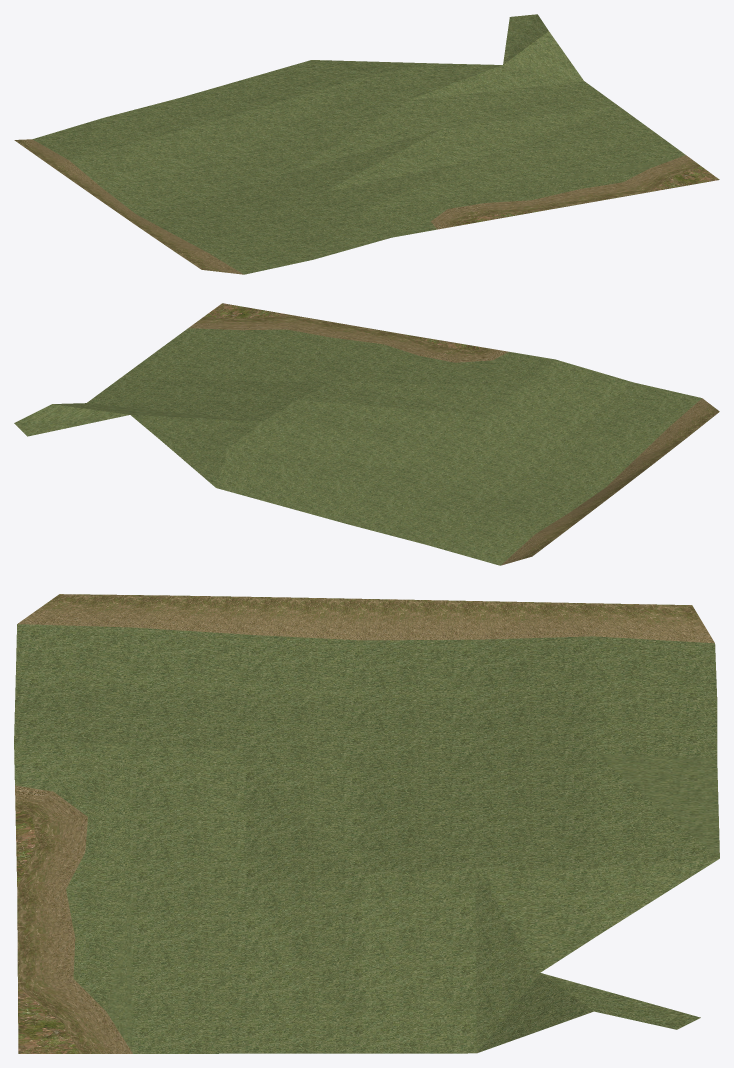
Rendered from se_bit_04.obj.
The picture shows the model from 3 angles, top to bottom: view 1: azimuth 30°, elevation 25°; view 2: azimuth 150°, elevation 25°; view 3: azimuth 270°, elevation 25°; orthographic projection. The views are drawn at different scales.
Visible parts, largest first — view 1: se_bit_04; view 2: se_bit_04; view 3: se_bit_04.
Part boxes in pixels (x1,y1,x2,y2): se_bit_04: (14,14,719,274); se_bit_04: (14,303,719,565); se_bit_04: (14,594,719,1053).
Size of the model in its own units: 188 by 8.55 by 131.
Materials: 4 (4 with a texture image).
